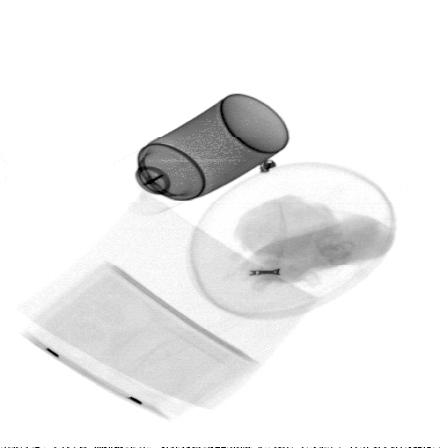Sprayer: (104, 92, 292, 217)
